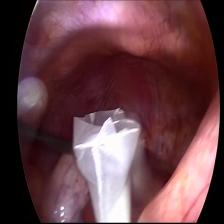Specimen Bag: (71, 105, 146, 224)
